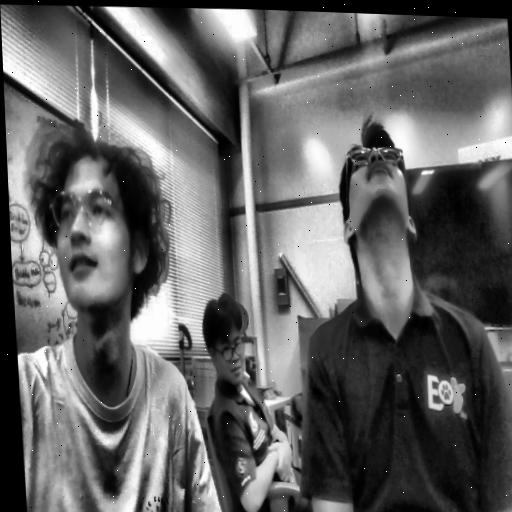Daifuku: (27, 119, 176, 330)
Not Daifuku: (327, 106, 423, 258), (202, 286, 256, 387)
